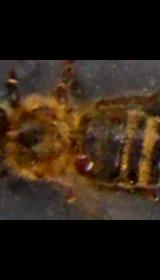varroa_mite: (66, 145, 100, 177)
